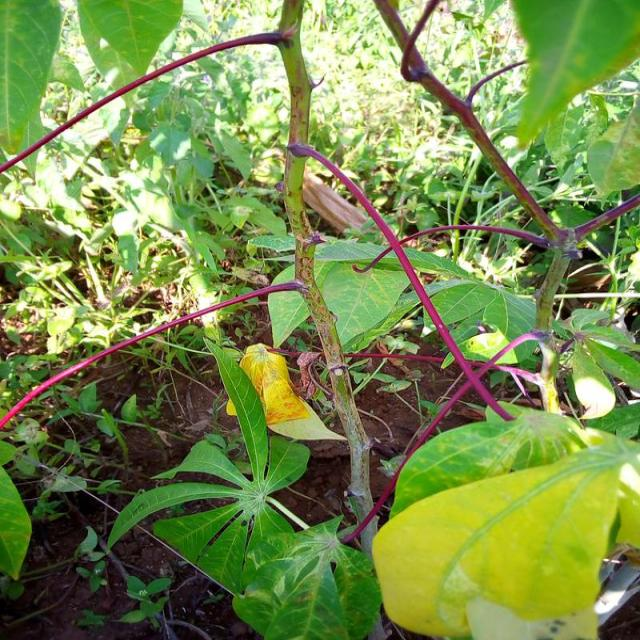cassava leaf: (371, 405, 638, 637)
